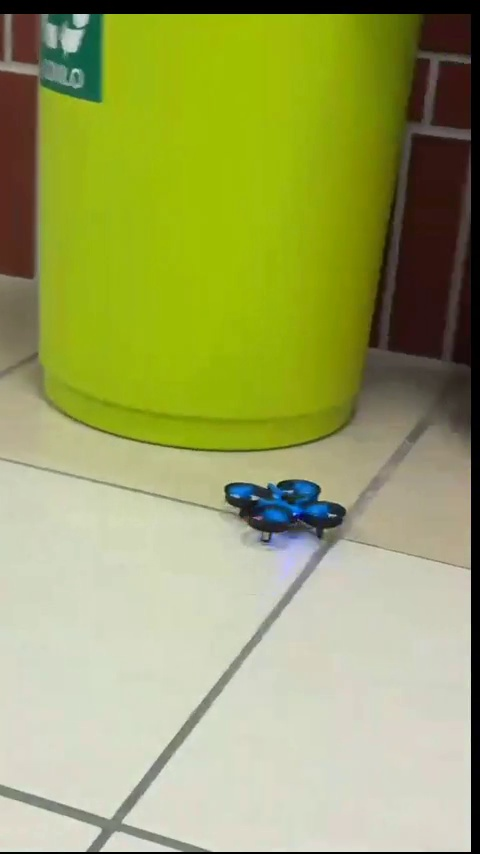drone: (218, 477, 344, 543)
